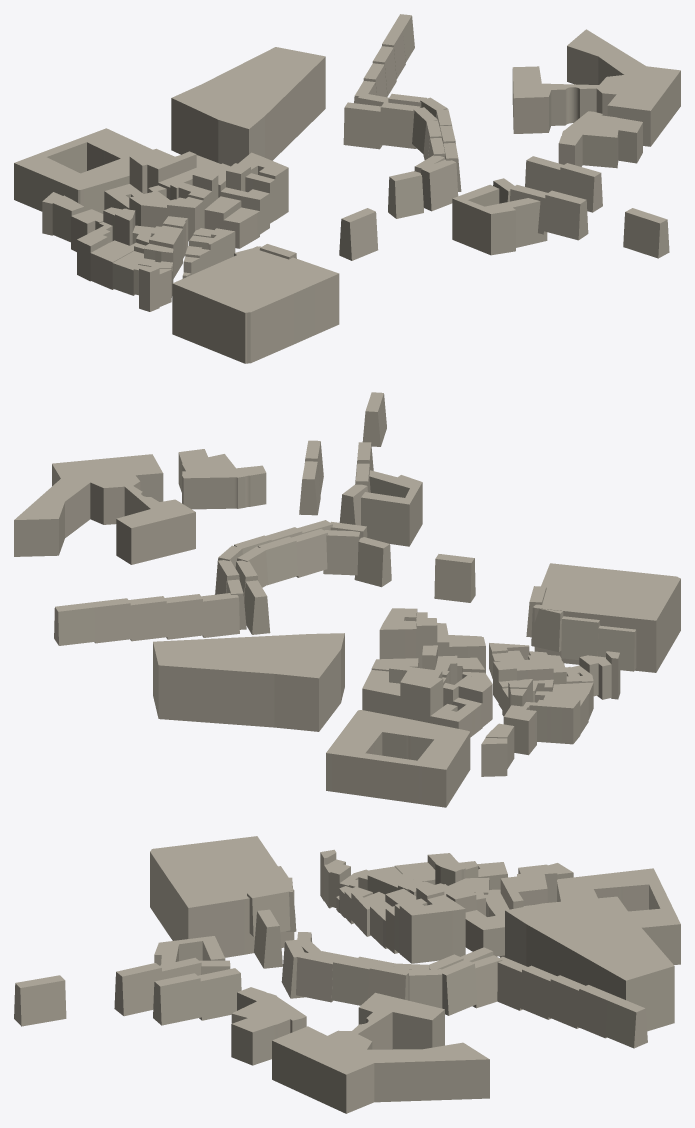
The model's file is bormla_61_27_mid.glb.
3 renders of one model, top to bottom at view 1: azimuth 30°, elevation 25°; view 2: azimuth 150°, elevation 25°; view 3: azimuth 270°, elevation 25°, orthographic. The views are drawn at different scales.
Parts seen in each view (by area): view 1: geometry_0; view 2: geometry_0; view 3: geometry_0.
Part boxes in pixels (left/top/right/bottom): geometry_0: left=14, top=14, right=680, bottom=363; geometry_0: left=14, top=392, right=680, bottom=807; geometry_0: left=14, top=836, right=680, bottom=1113.
Bounding box in the file's own units: 211 × 37.88 × 200.
